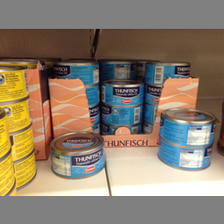fish: (50, 130, 108, 179), (160, 106, 216, 146), (154, 134, 213, 171), (143, 60, 191, 87), (100, 77, 144, 105), (53, 59, 100, 85), (97, 101, 145, 125)
